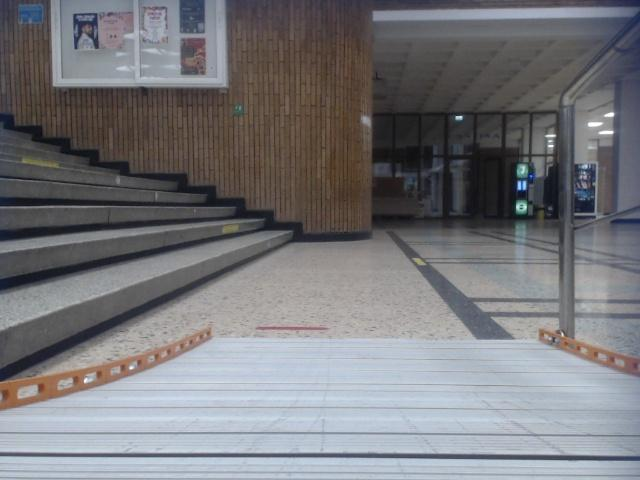rampDown: (0, 325, 639, 479)
ramps-railing: (554, 6, 639, 340), (571, 198, 639, 238)
